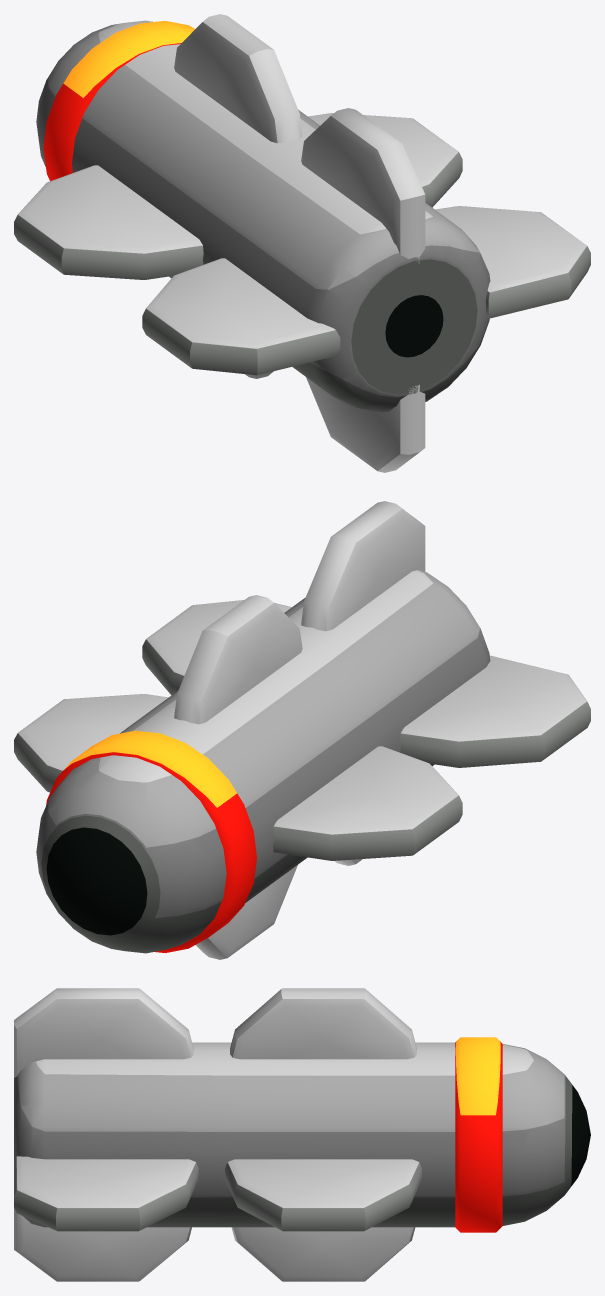
Rendered from white_dart_190.glb.
3 renders of one model, top to bottom at view 1: azimuth 30°, elevation 25°; view 2: azimuth 150°, elevation 25°; view 3: azimuth 270°, elevation 25°, orthographic. The views are drawn at different scales.
Visible parts, largest first — view 1: body, fin0r, fin1r, fin0u, fin0l, fin1u, band, fin0d, fin1l; view 2: body, fin1r, fin0r, fin0u, fin1u, band, fin1l, fin0l, fin1d; view 3: body, fin1l, fin0l, fin0u, fin1u, band, fin0d, fin1d.
Boxes of the visible parts, <box> form: body: <box>36,20,490,412</box>; fin0r: <box>142,258,340,375</box>; fin1r: <box>14,165,203,279</box>; fin0u: <box>301,108,425,263</box>; fin0l: <box>435,206,590,318</box>; fin1u: <box>174,14,302,143</box>; band: <box>43,21,194,181</box>; fin0d: <box>306,377,425,472</box>; fin1l: <box>308,113,462,207</box>; body: <box>36,569,490,953</box>; fin1r: <box>273,746,462,860</box>; fin0r: <box>400,655,590,767</box>; fin0u: <box>301,501,425,631</box>; fin1u: <box>174,595,302,724</box>; band: <box>46,730,256,952</box>; fin1l: <box>14,694,168,792</box>; fin0l: <box>142,600,291,695</box>; fin1d: <box>196,865,297,959</box>; body: <box>14,1042,590,1227</box>; fin1l: <box>225,1159,421,1231</box>; fin0l: <box>14,1156,198,1231</box>; fin0u: <box>14,988,193,1077</box>; fin1u: <box>230,988,416,1059</box>; band: <box>455,1037,502,1232</box>; fin0d: <box>14,1208,191,1281</box>; fin1d: <box>231,1227,415,1281</box>.
Bounding box in the file's own units: 9.2 × 7.18 × 13.05.
